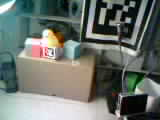duck: (33, 17, 62, 46)
